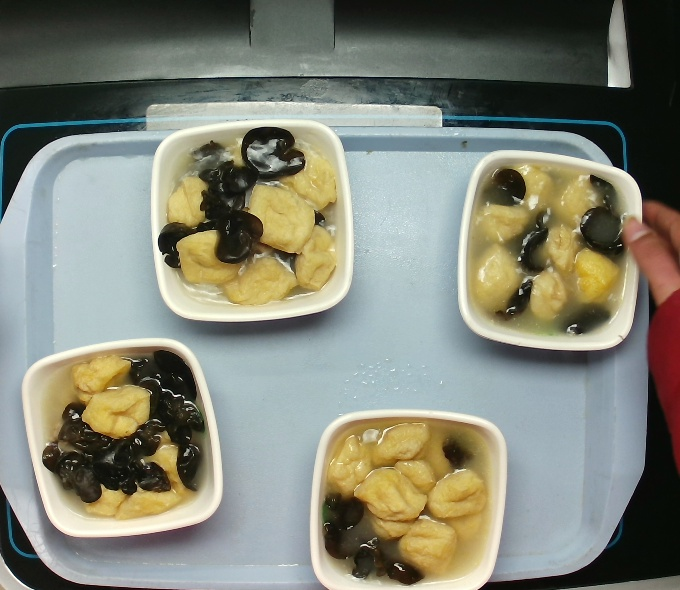wcq-MuErYouPaoTang: (306, 393, 506, 589), (162, 127, 348, 312), (469, 155, 644, 342), (36, 352, 210, 522)
